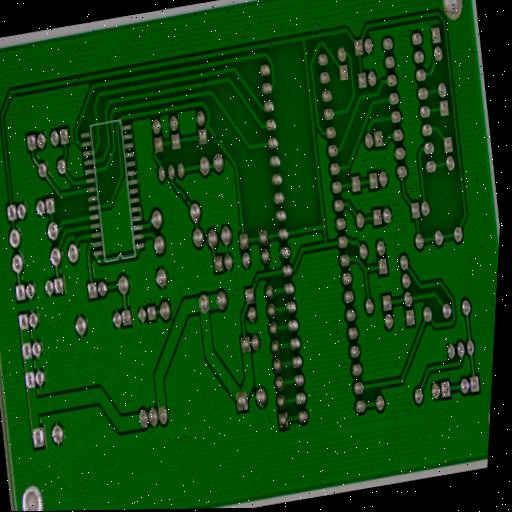open_circuit: (211, 131, 221, 145), (289, 412, 296, 424), (183, 195, 189, 204)
